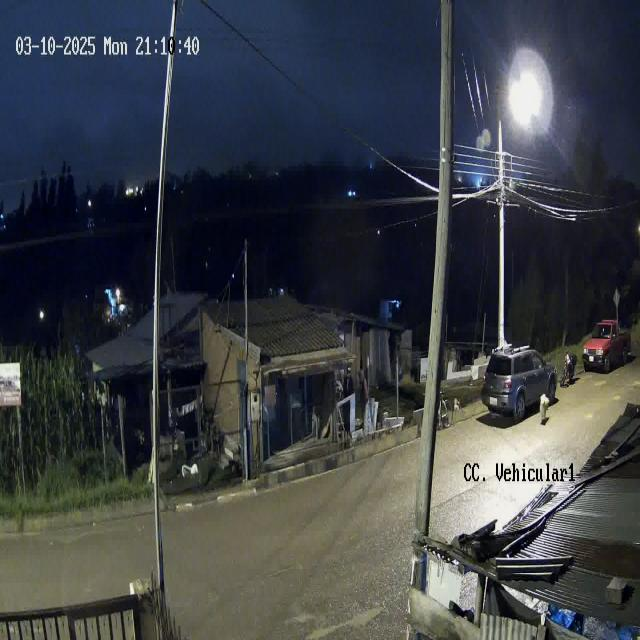SUV: (480, 345, 558, 421)
